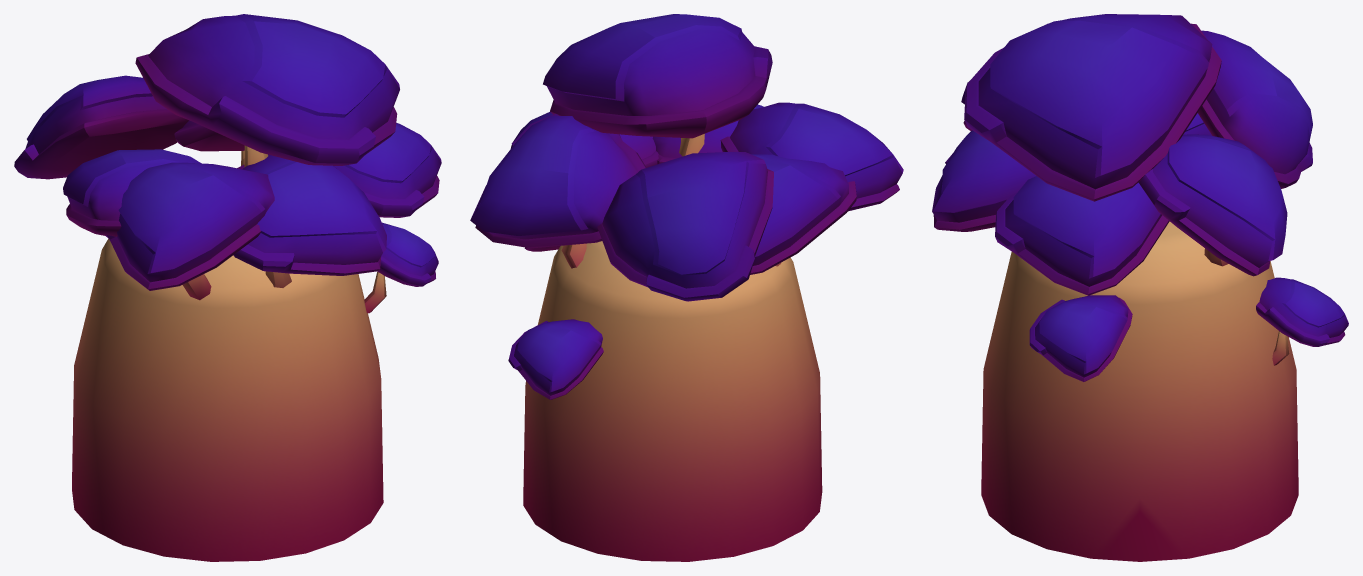
The model's file is Edge_Tree_6.fbx.
3 views of the same model, side by side, from view 1: azimuth 30°, elevation 25°; view 2: azimuth 150°, elevation 25°; view 3: azimuth 270°, elevation 25° (orthographic). The views are drawn at different scales.
Parts seen in each view (by area): view 1: Edge_Tree_v6; view 2: Edge_Tree_v6; view 3: Edge_Tree_v6.
Boxes of the visible parts, x1,y1,x2,y2 form: Edge_Tree_v6: (14,14,441,561); Edge_Tree_v6: (470,14,903,561); Edge_Tree_v6: (932,14,1348,561).
Size of the model in its own units: 373 by 479 by 378.
